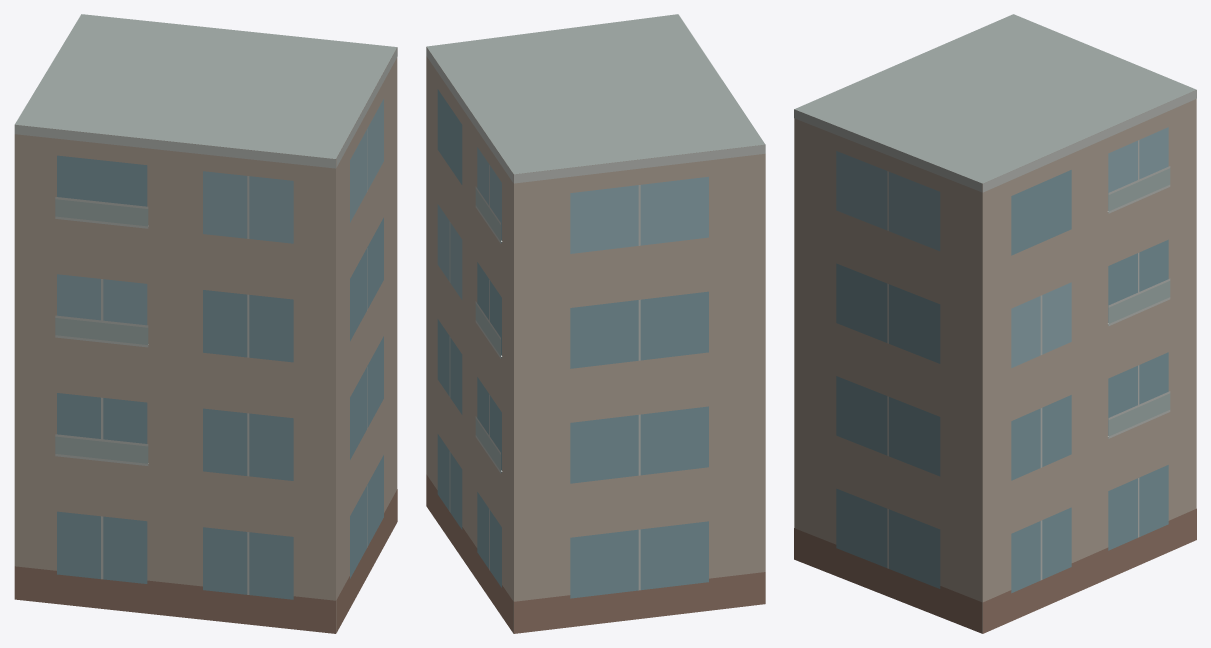
File: survey-upis-32758760.glb
3 renders of one model, left to right at view 1: azimuth 30°, elevation 25°; view 2: azimuth 150°, elevation 25°; view 3: azimuth 270°, elevation 25°, orthographic. The views are drawn at different scales.
Visible parts, largest first — view 1: survey-upis-32758760.tmp; view 2: survey-upis-32758760.tmp; view 3: survey-upis-32758760.tmp.
Part boxes in pixels (x1=…): survey-upis-32758760.tmp: x1=14, y1=14, x2=397, y2=633; survey-upis-32758760.tmp: x1=426, y1=14, x2=765, y2=633; survey-upis-32758760.tmp: x1=794, y1=14, x2=1196, y2=633.
Size of the model in its own units: 9.87 by 12.2 by 9.9.
